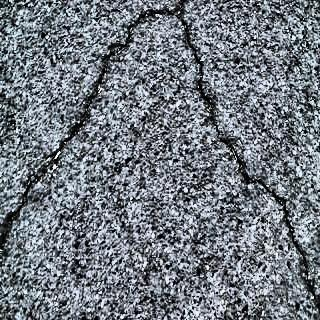crack: (164, 7, 316, 268), (8, 10, 140, 245)
